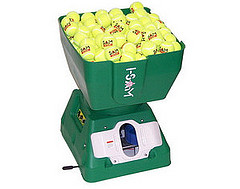tennis ball: (77, 43, 95, 59), (125, 28, 141, 43), (73, 29, 89, 44), (63, 21, 79, 36), (141, 40, 156, 55), (159, 41, 174, 56), (105, 45, 121, 59), (100, 33, 116, 47), (141, 28, 157, 42), (95, 12, 111, 26), (139, 22, 158, 33), (129, 2, 144, 13), (66, 11, 81, 22), (83, 16, 95, 27), (111, 14, 123, 23)
